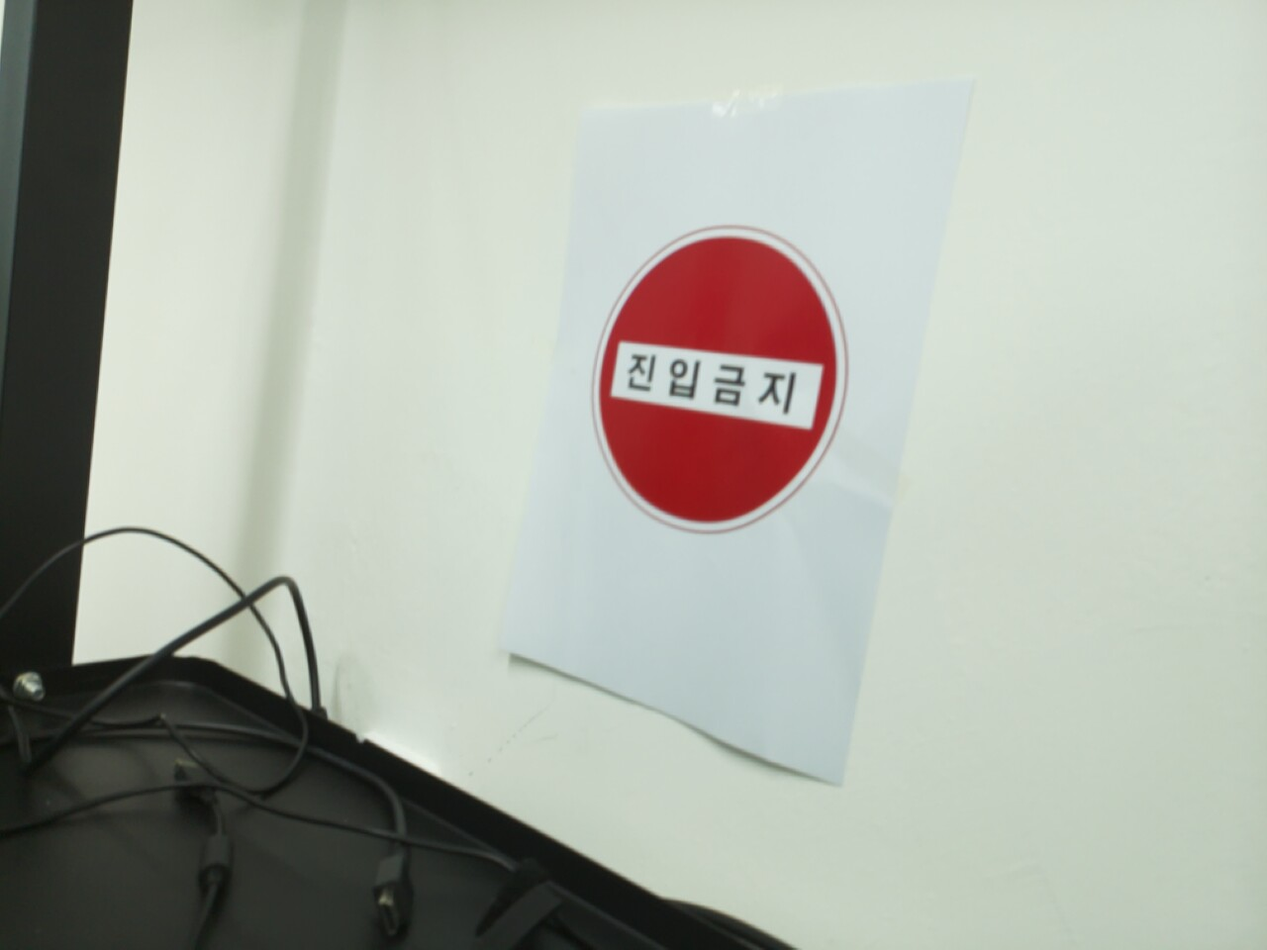do_not_enter: (591, 228, 844, 532)
